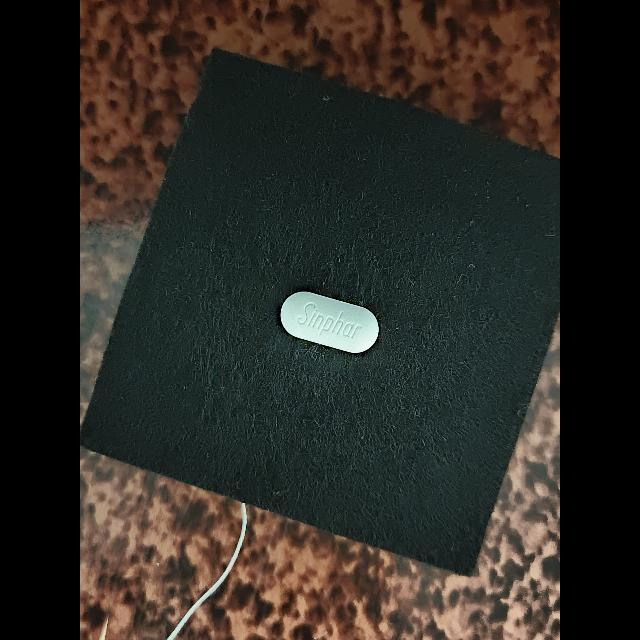Intact Pill: (280, 291, 378, 354)
